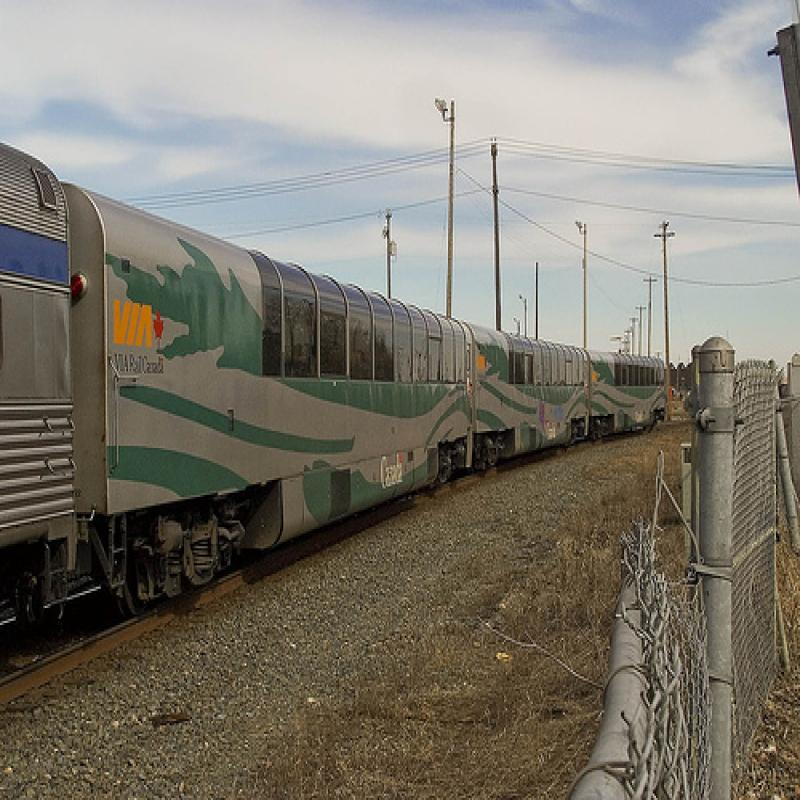train: (1, 142, 671, 673)
